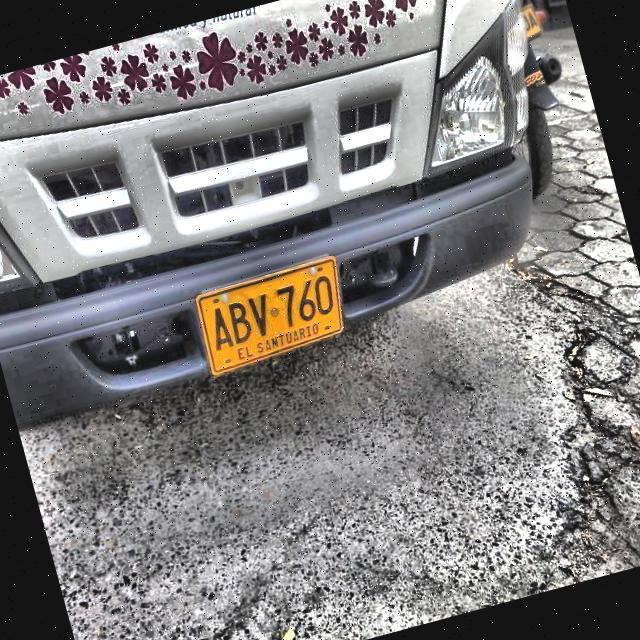0: (312, 272, 336, 317)
6: (295, 278, 318, 323)
7: (275, 283, 299, 329)
A: (205, 304, 235, 352)
B: (225, 298, 255, 345)
V: (246, 292, 273, 338)
